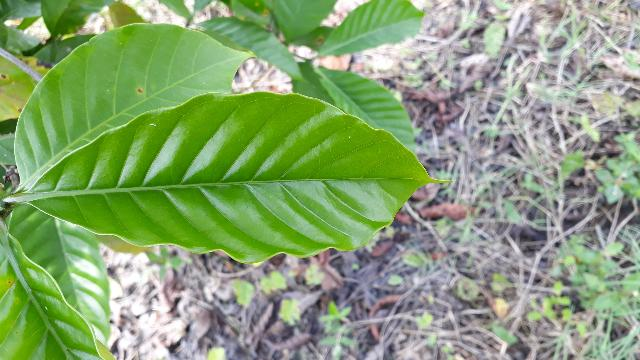healthy: (27, 92, 453, 267)
